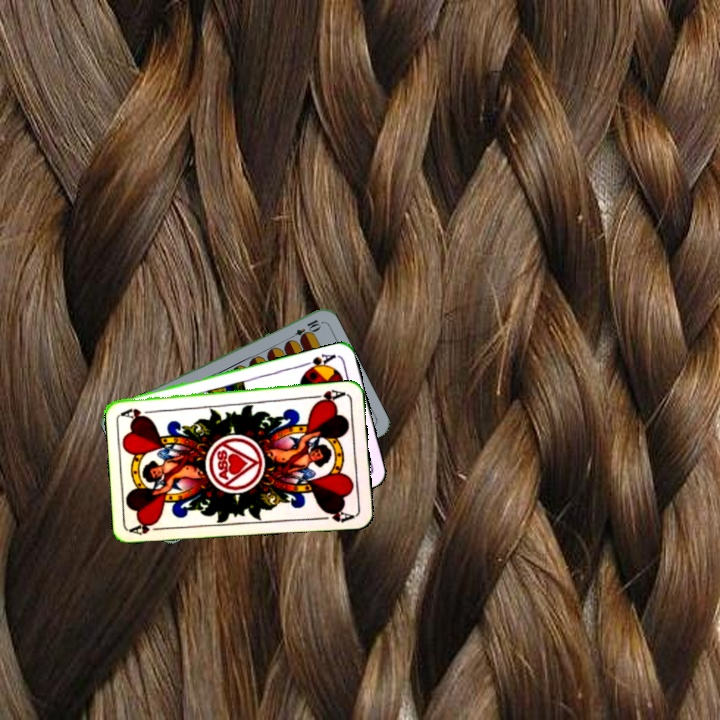E10: (285, 315, 323, 343)
HA: (308, 386, 349, 406), (127, 517, 168, 537)
SA: (299, 350, 338, 375)
